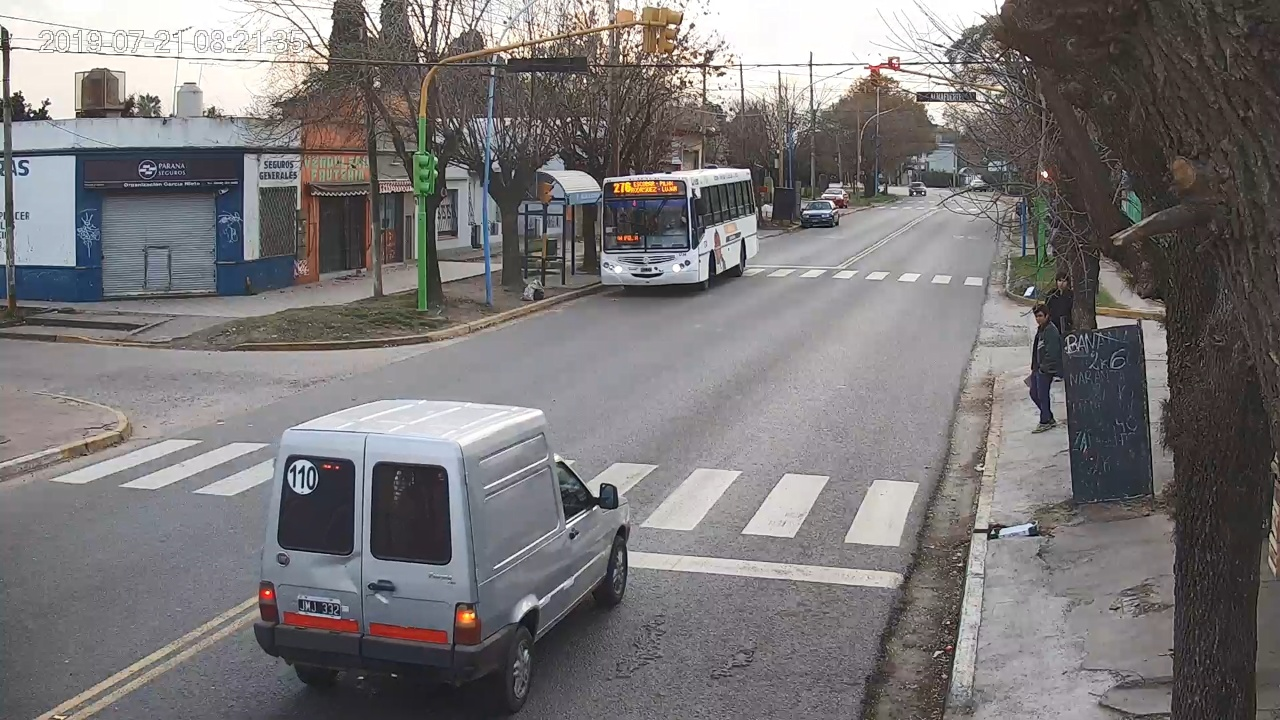car: (253, 400, 632, 710)
front bus: (602, 168, 758, 290)
traffic light: (868, 54, 881, 85)
